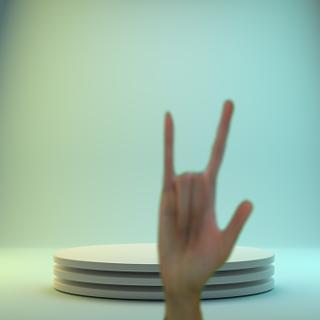ILY: (148, 97, 258, 297)
